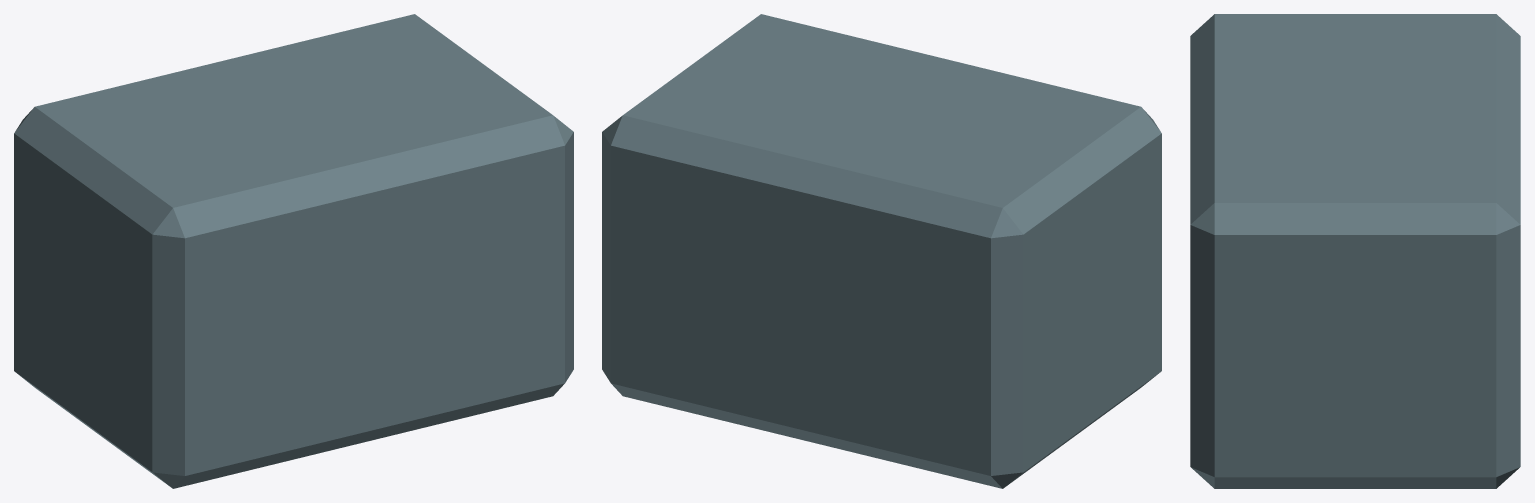
File: frameBox.dae
3 views of the same model, side by side, from view 1: azimuth 30°, elevation 25°; view 2: azimuth 150°, elevation 25°; view 3: azimuth 270°, elevation 25° (orthographic).
Visible parts, largest first — view 1: frameBox; view 2: frameBox; view 3: frameBox.
Boxes of the visible parts, left/top/right/bottom form: frameBox: left=14, top=14, right=573, bottom=488; frameBox: left=602, top=14, right=1161, bottom=488; frameBox: left=1190, top=14, right=1520, bottom=488.
Bounding box in the file's own units: 0.51 × 0.34 × 0.325.
